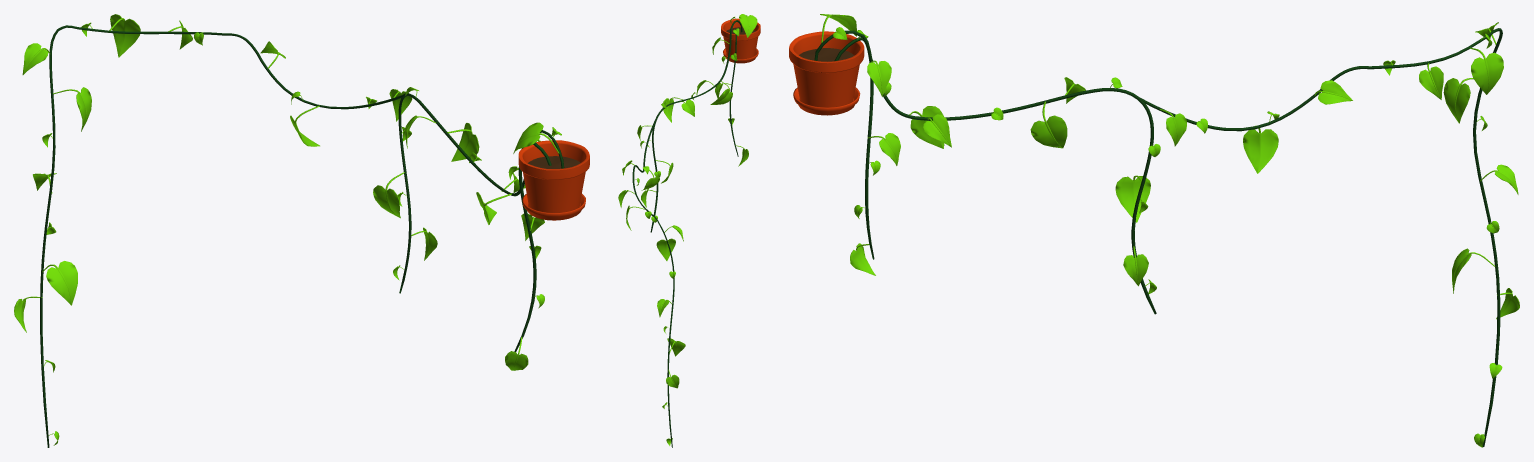
File: PothosPlant_no2_modell_alvin_002.fbx
3 views of the same model, side by side, from view 1: azimuth 30°, elevation 25°; view 2: azimuth 150°, elevation 25°; view 3: azimuth 270°, elevation 25° (orthographic). The views are drawn at different scales.
Parts seen in each view (by area): view 1: pothos.002, pothos; view 2: pothos.002, pothos; view 3: pothos.002, pothos.
Boxes of the visible parts, box(x1,y1,x2,y2) form: pothos.002: box(14, 14, 564, 447); pothos: box(518, 140, 589, 220); pothos.002: box(618, 14, 757, 447); pothos: box(721, 18, 760, 63); pothos.002: box(814, 14, 1519, 447); pothos: box(789, 31, 864, 115).
Bounding box in the file's own units: 1717 × 3356 × 4220.
